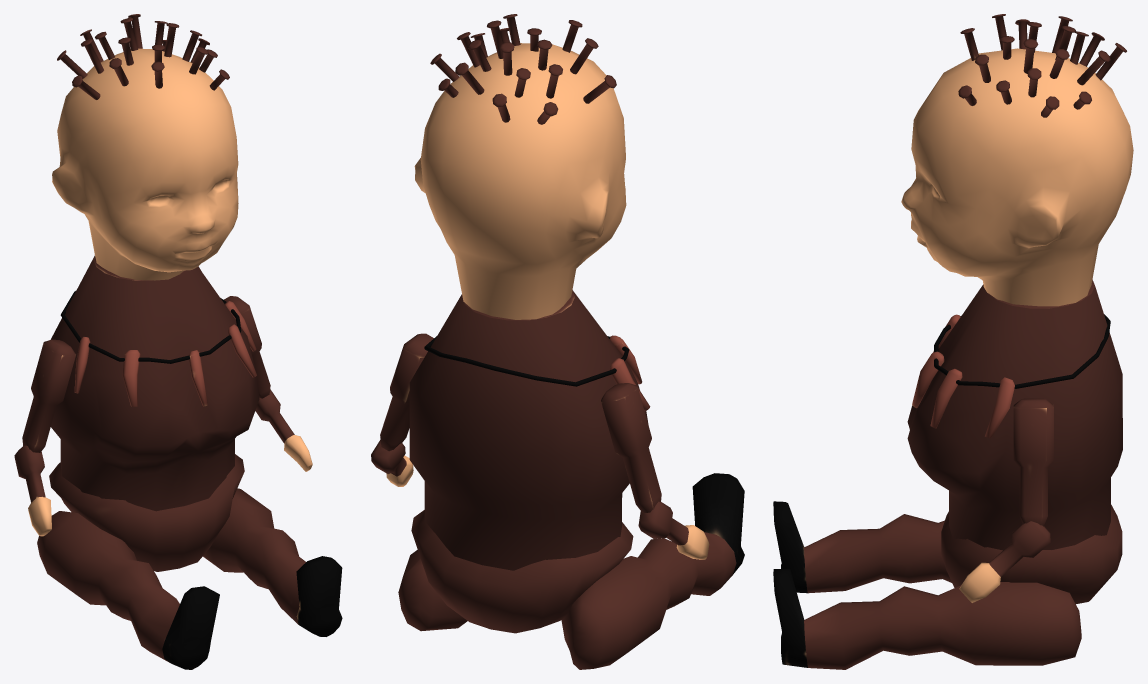
File: BlassedDoll.fbx
3 views of the same model, side by side, from view 1: azimuth 30°, elevation 25°; view 2: azimuth 150°, elevation 25°; view 3: azimuth 270°, elevation 25° (orthographic). The views are drawn at different scales.
Visible parts, largest first — view 1: HorrorDoll; view 2: HorrorDoll; view 3: HorrorDoll.
Part boxes in pixels (bbox=[...]): HorrorDoll: bbox=[14, 14, 342, 669]; HorrorDoll: bbox=[371, 14, 744, 669]; HorrorDoll: bbox=[773, 14, 1133, 669].
Bounding box in the file's own units: 0.2754 × 0.521 × 0.2834.
Materials: 1 (1 with a texture image).
